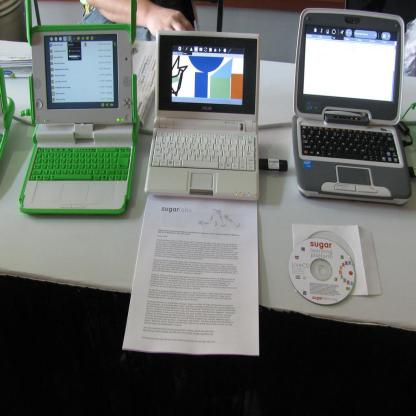board: (18, 0, 140, 215), (291, 6, 412, 206), (144, 29, 261, 203)
